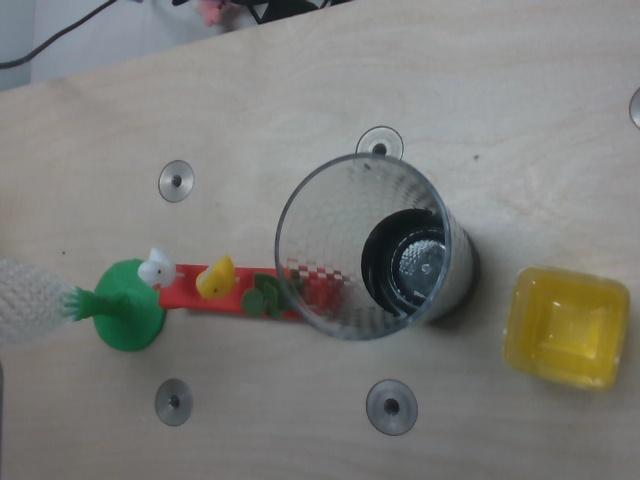black_cup: (362, 209, 478, 327)
green_cup: (71, 259, 167, 352)
leaf: (239, 271, 305, 322)
w_duck: (137, 247, 175, 290)
y_duck: (194, 255, 237, 302)
yellow_cup: (503, 265, 629, 394)
